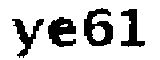1: (116, 8, 147, 51)
6: (81, 6, 113, 49)
e: (48, 16, 78, 50)
y: (10, 14, 44, 60)
